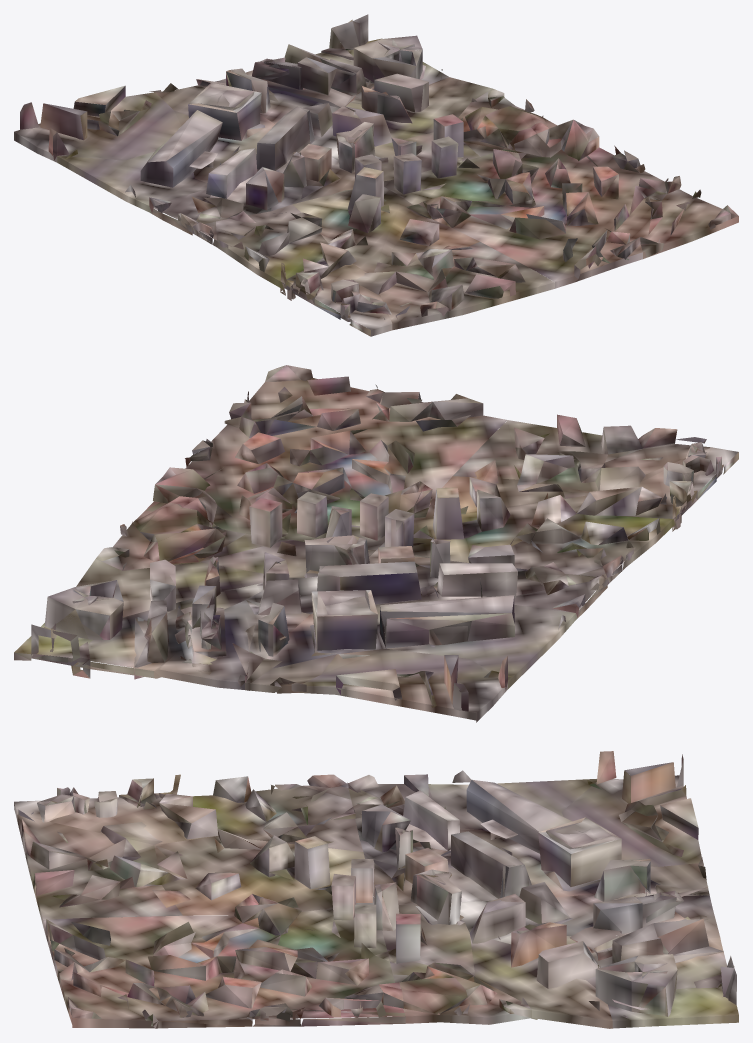
The picture shows the model from 3 angles, top to bottom: view 1: azimuth 30°, elevation 25°; view 2: azimuth 150°, elevation 25°; view 3: azimuth 270°, elevation 25°; orthographic projection. The views are drawn at different scales.
Visible parts, largest first — view 1: Mesh_0; view 2: Mesh_0; view 3: Mesh_0.
Part boxes in pixels (bbox=[...]): Mesh_0: bbox=[14, 14, 738, 336]; Mesh_0: bbox=[14, 365, 738, 722]; Mesh_0: bbox=[14, 751, 738, 1028].
Bounding box in the file's own units: 532 × 79.43 × 659.
Materials: 2 (2 with a texture image).
